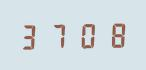eight: (99, 19, 125, 49)
seven: (45, 20, 71, 50)
three: (18, 20, 44, 50)
zero: (72, 20, 98, 49)
